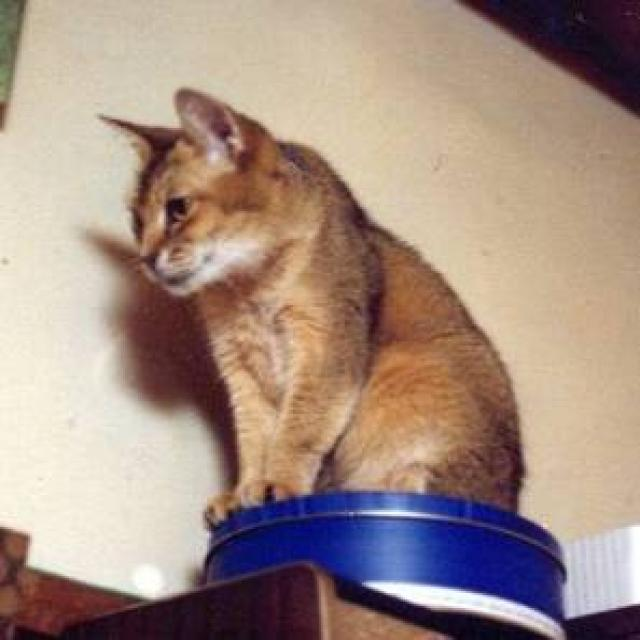Abyssinian: (95, 86, 291, 293)
